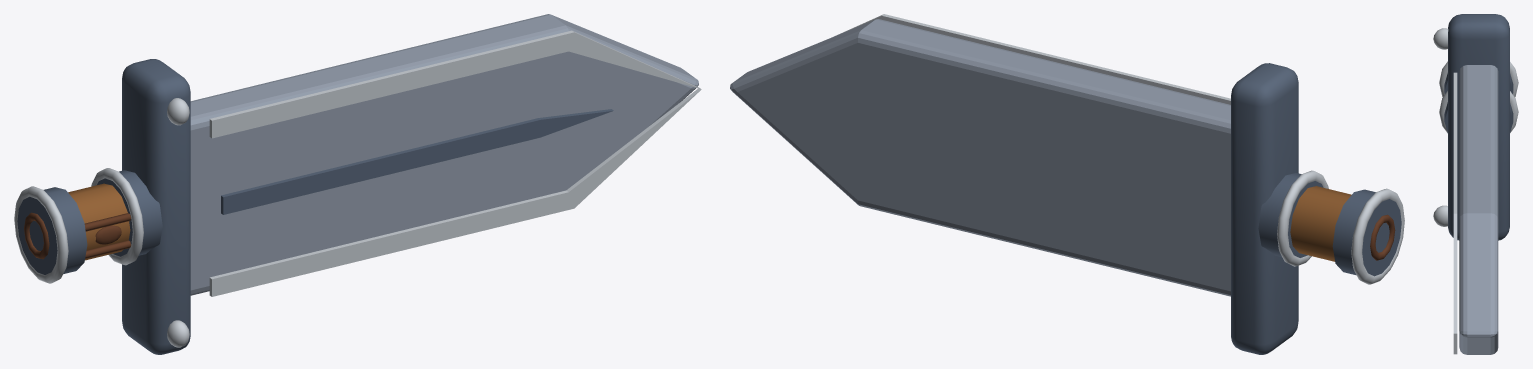
Rendered from wpn_ironsword.glb.
The picture shows the model from 3 angles, left to right: view 1: azimuth 30°, elevation 25°; view 2: azimuth 150°, elevation 25°; view 3: azimuth 270°, elevation 25°; orthographic projection. The views are drawn at different scales.
Visible parts, largest first — view 1: object 1, cyl.004, cyl.005, torus.001, torus.002; view 2: object 1, cyl.004, cyl.005, torus.001, torus.002; view 3: object 1, torus.002, torus.001, sphere.002, sphere.001, cyl.005, cyl.004.
Boxes of the visible parts, <box> form: object 1: <box>24,14,701,354</box>; cyl.004: <box>17,187,87,274</box>; cyl.005: <box>97,170,162,256</box>; torus.001: <box>14,186,68,283</box>; torus.002: <box>91,168,143,265</box>; object 1: <box>730,14,1395,354</box>; cyl.004: <box>1332,189,1401,276</box>; cyl.005: <box>1258,173,1323,257</box>; torus.001: <box>1351,188,1404,284</box>; torus.002: <box>1277,170,1328,266</box>; object 1: <box>1448,14,1509,354</box>; torus.002: <box>1439,91,1518,133</box>; torus.001: <box>1439,61,1518,96</box>; sphere.002: <box>1433,28,1448,49</box>; sphere.001: <box>1433,205,1447,226</box>; cyl.005: <box>1444,102,1513,132</box>; cyl.004: <box>1444,73,1513,94</box>.
Size of the model in its own units: 1.16 by 0.4625 by 0.1637.
